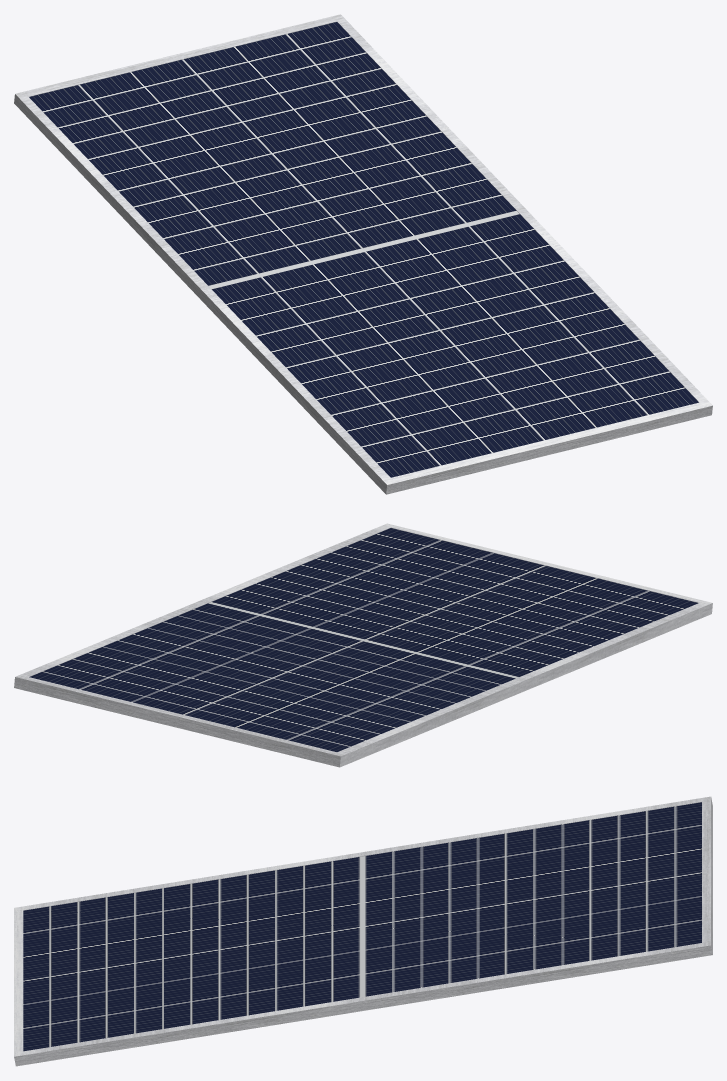
Rendered from A01_PV_Module.fbx.
3 views of the same model, one above another, from view 1: azimuth 30°, elevation 25°; view 2: azimuth 150°, elevation 25°; view 3: azimuth 270°, elevation 25° (orthographic). The views are drawn at different scales.
Visible parts, largest first — view 1: PV_Module; view 2: PV_Module; view 3: PV_Module.
Part boxes in pixels (<box>): PV_Module: <box>14,14,712,494</box>; PV_Module: <box>14,523,712,767</box>; PV_Module: <box>14,796,712,1066</box>.
Size of the model in its own units: 1.13 by 0.43 by 2.25.
6 materials, 4 textured.
